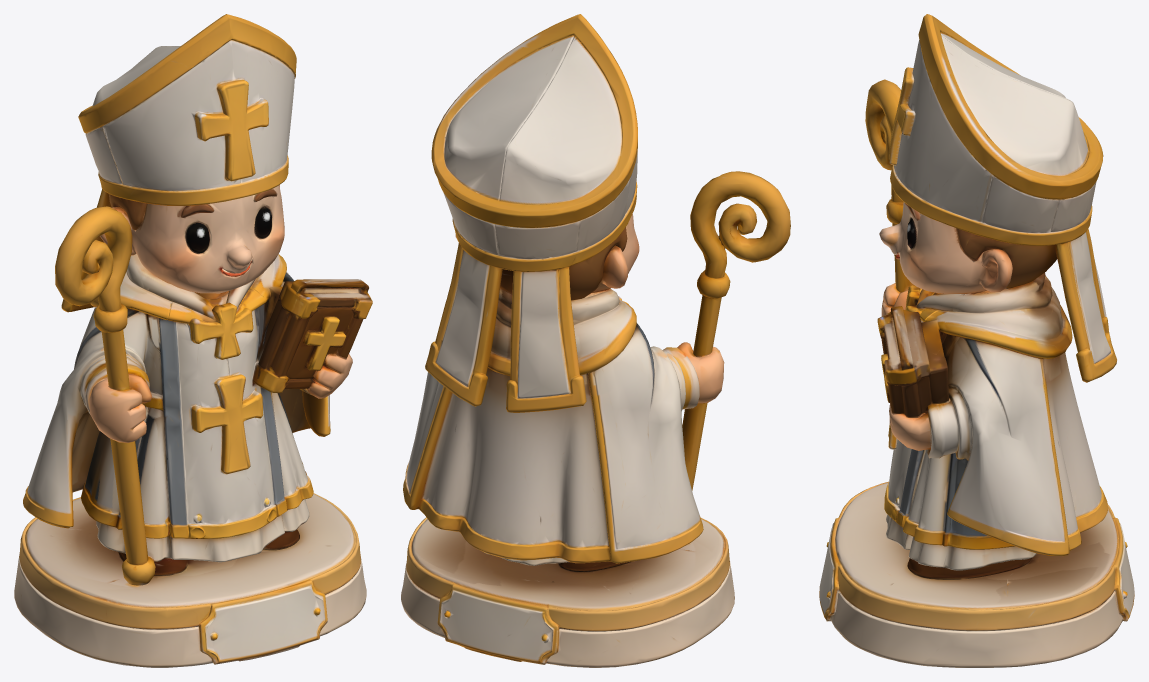
Rendered from child-crusader-b-budget50.glb.
3 views of the same model, side by side, from view 1: azimuth 30°, elevation 25°; view 2: azimuth 150°, elevation 25°; view 3: azimuth 270°, elevation 25° (orthographic). The views are drawn at different scales.
Visible parts, largest first — view 1: node_0; view 2: node_0; view 3: node_0.
Part boxes in pixels (x1,y1,x2,y2): node_0: (14,14,372,667); node_0: (401,14,790,667); node_0: (819,14,1134,667).
Size of the model in its own units: 0.6059 by 1.04 by 0.504.
1 material, 1 textured.
